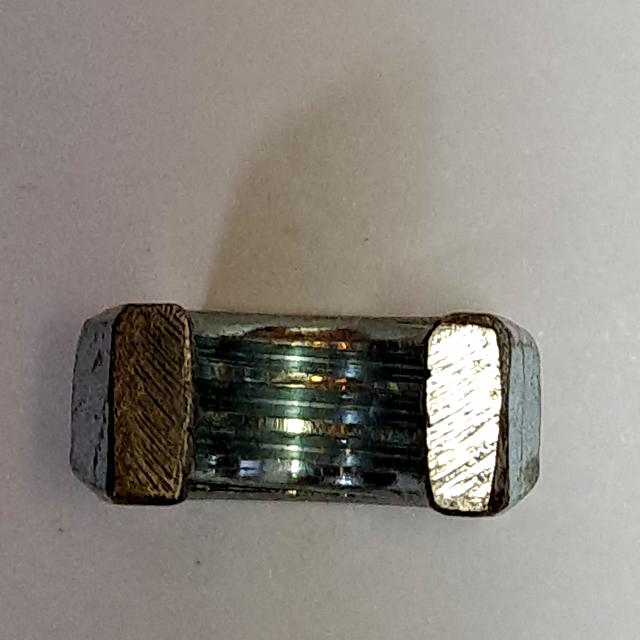Side-Fracture: (51, 282, 569, 533)
